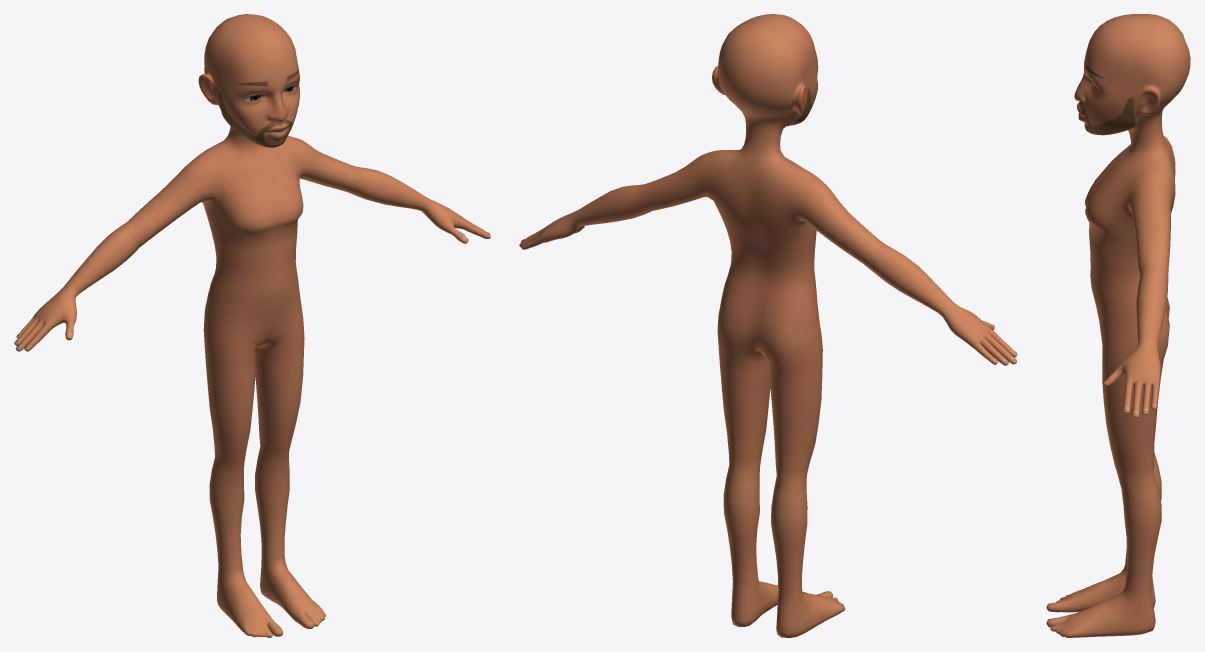
File: frame_0035.glb
3 views of the same model, side by side, from view 1: azimuth 30°, elevation 25°; view 2: azimuth 150°, elevation 25°; view 3: azimuth 270°, elevation 25° (orthographic). The views are drawn at different scales.
Visible parts, largest first — view 1: frame_0035_head_geo; view 2: frame_0035_head_geo; view 3: frame_0035_head_geo.
Part boxes in pixels (x1,y1,x2,y2): frame_0035_head_geo: (14, 14, 490, 637); frame_0035_head_geo: (519, 14, 1017, 637); frame_0035_head_geo: (1046, 14, 1190, 637).
Bounding box in the file's own units: 1.28 × 1.5 × 0.3253.
Materials: 3 (3 with a texture image).
